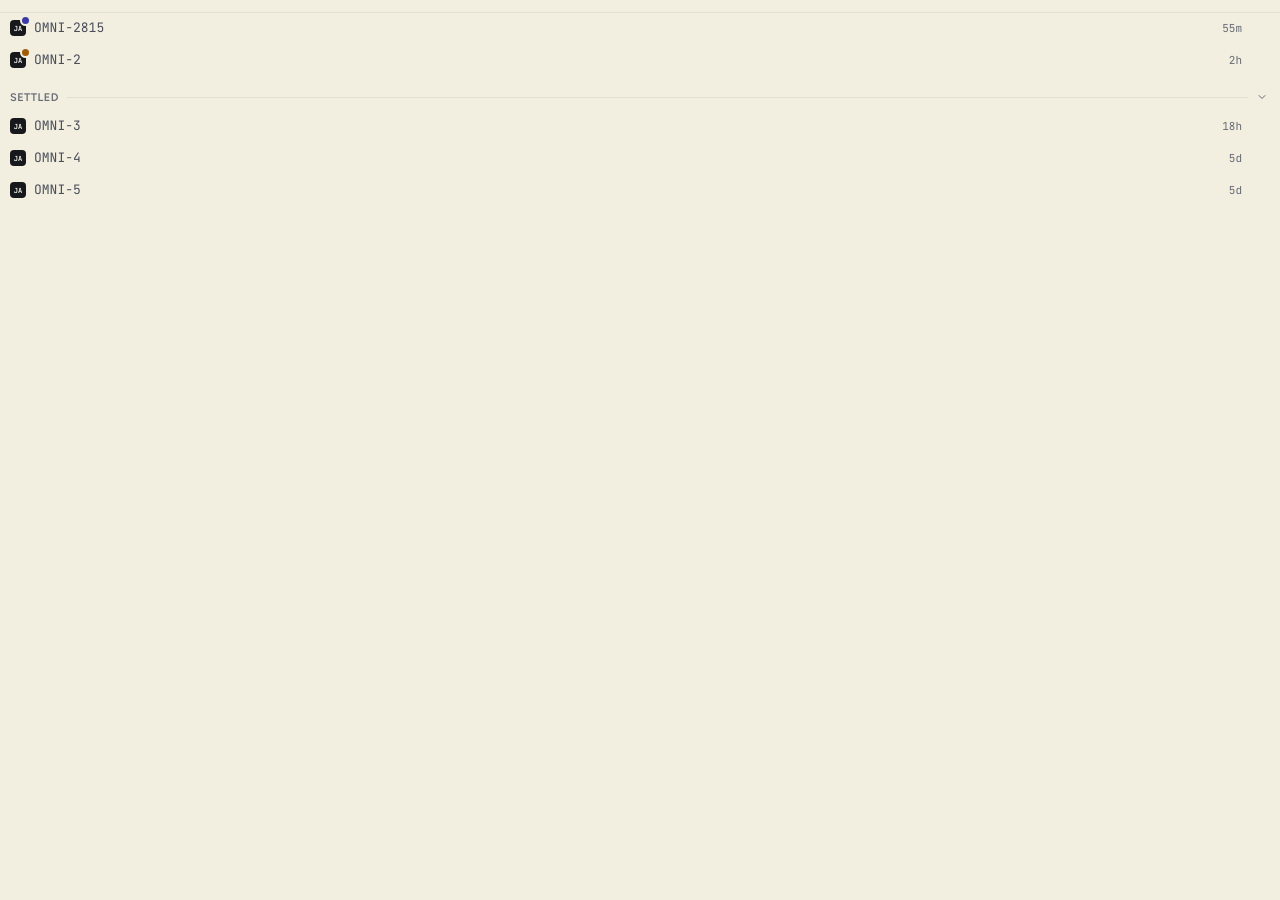
Test: the session menu › lets a time be picked, and refuses one already past
The width and height of the screenshot is (1280, 900).
Step 1. Right-click the button "JA OMNI-4 5d" → (57, 157), box x1=0 y1=143 x2=1254 y2=173
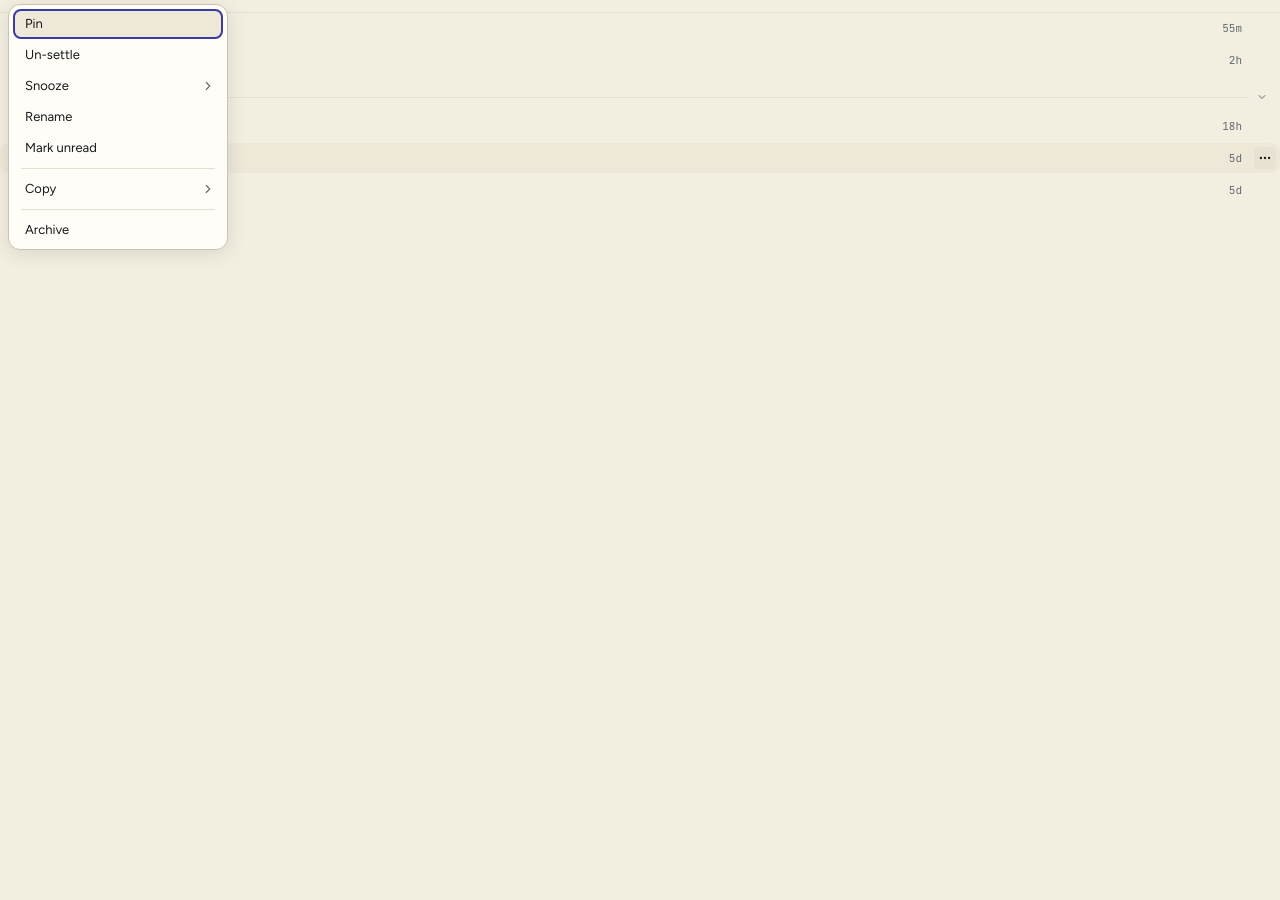
Step 2. Click the menu item "Snooze" → (118, 86), box x1=13 y1=71 x2=223 y2=101
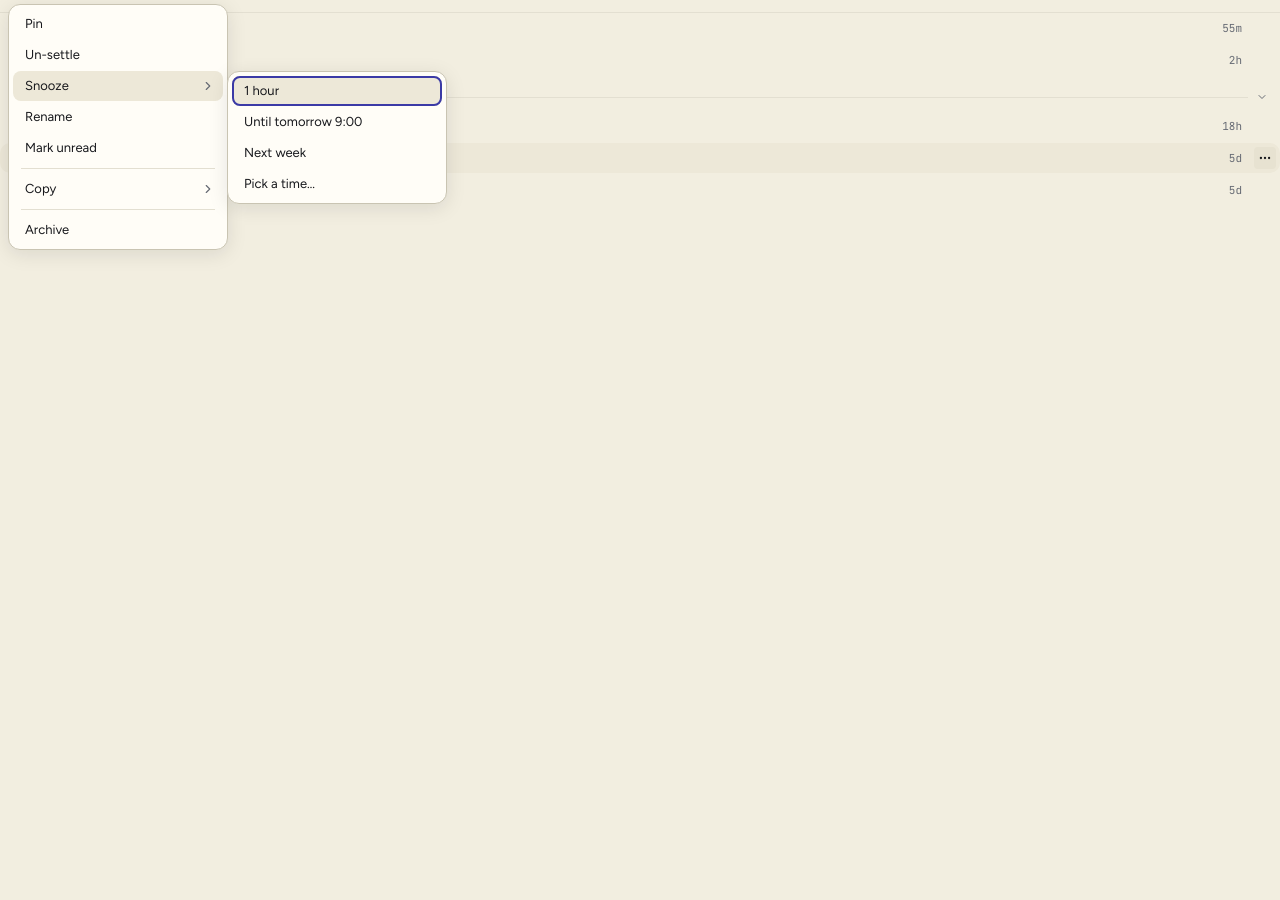
Step 3. Click the menu item "Pick a time…" → (337, 184), box x1=232 y1=169 x2=442 y2=199
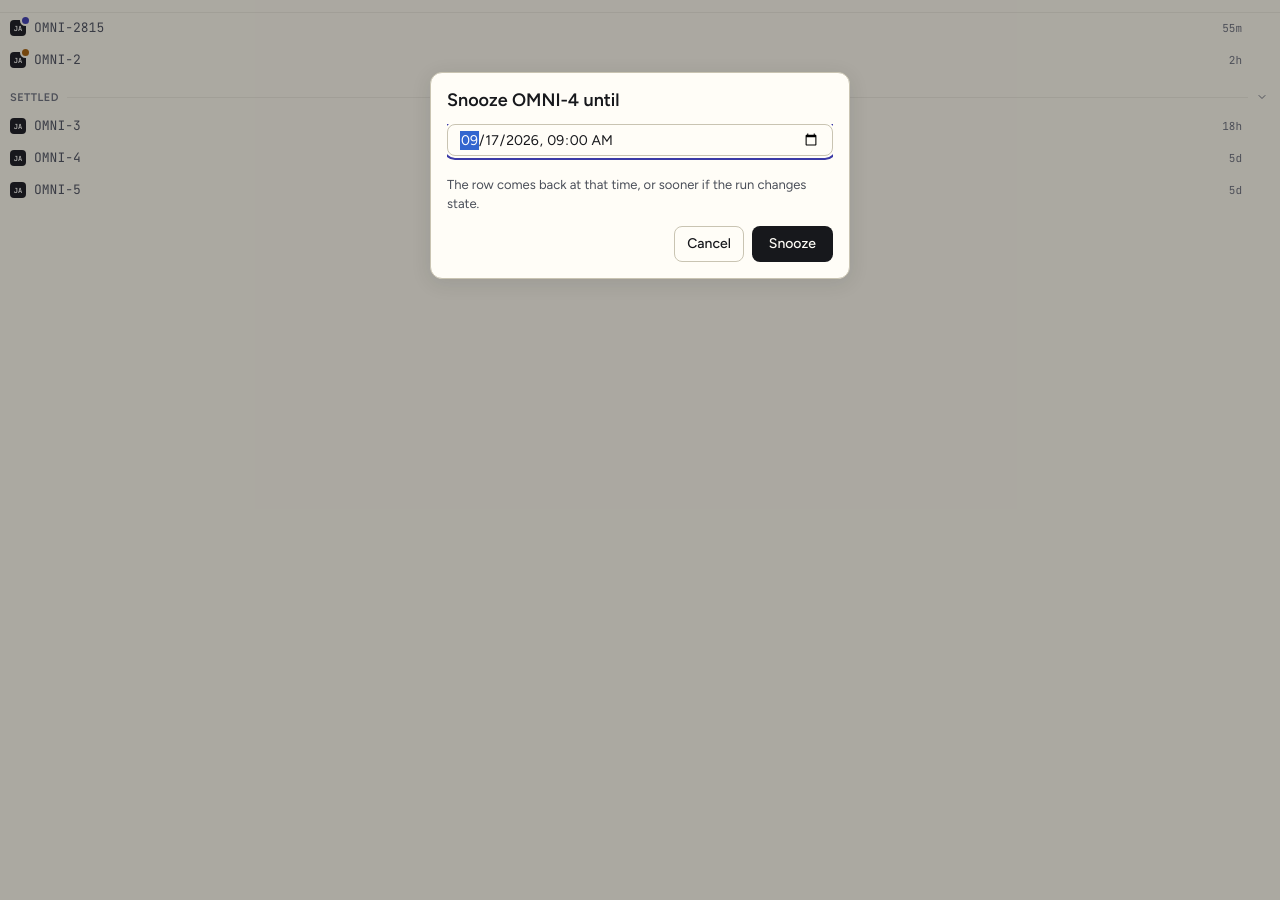
Result: the field named "Snooze until" holds "2026-09-17T09:00"
Step 4. Replace the text in the field named "Snooze until" with "2026-09-15T09:00" → (640, 140), box x1=447 y1=124 x2=833 y2=156
Step 5. Click the button "Snooze" → (792, 244), box x1=752 y1=226 x2=833 y2=262
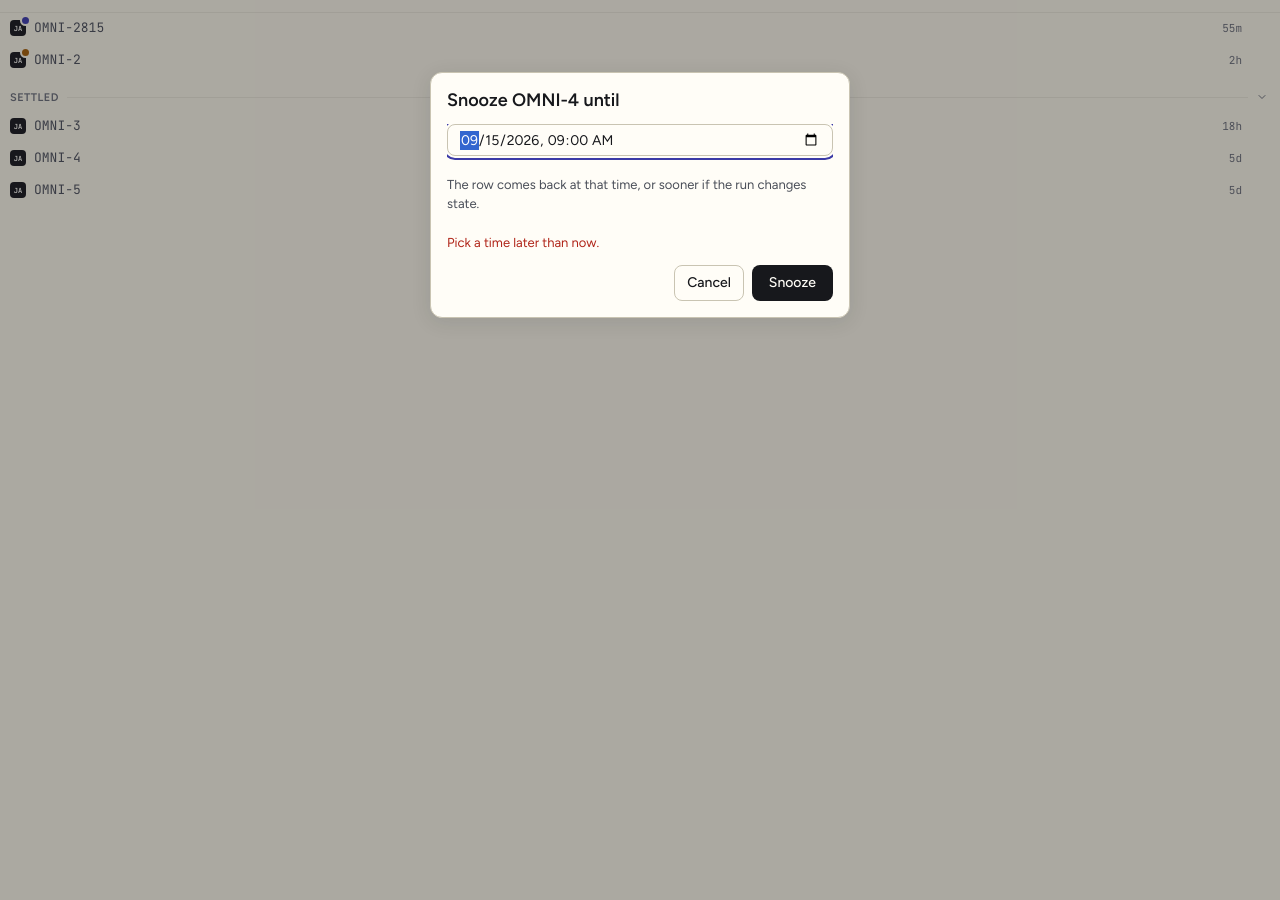
Result: the message reads "Pick a time later than now." at x1=447 y1=235 x2=599 y2=250
Step 6. Replace the text in the field named "Snooze until" with "2026-09-18T14:30" → (640, 140), box x1=447 y1=124 x2=833 y2=156
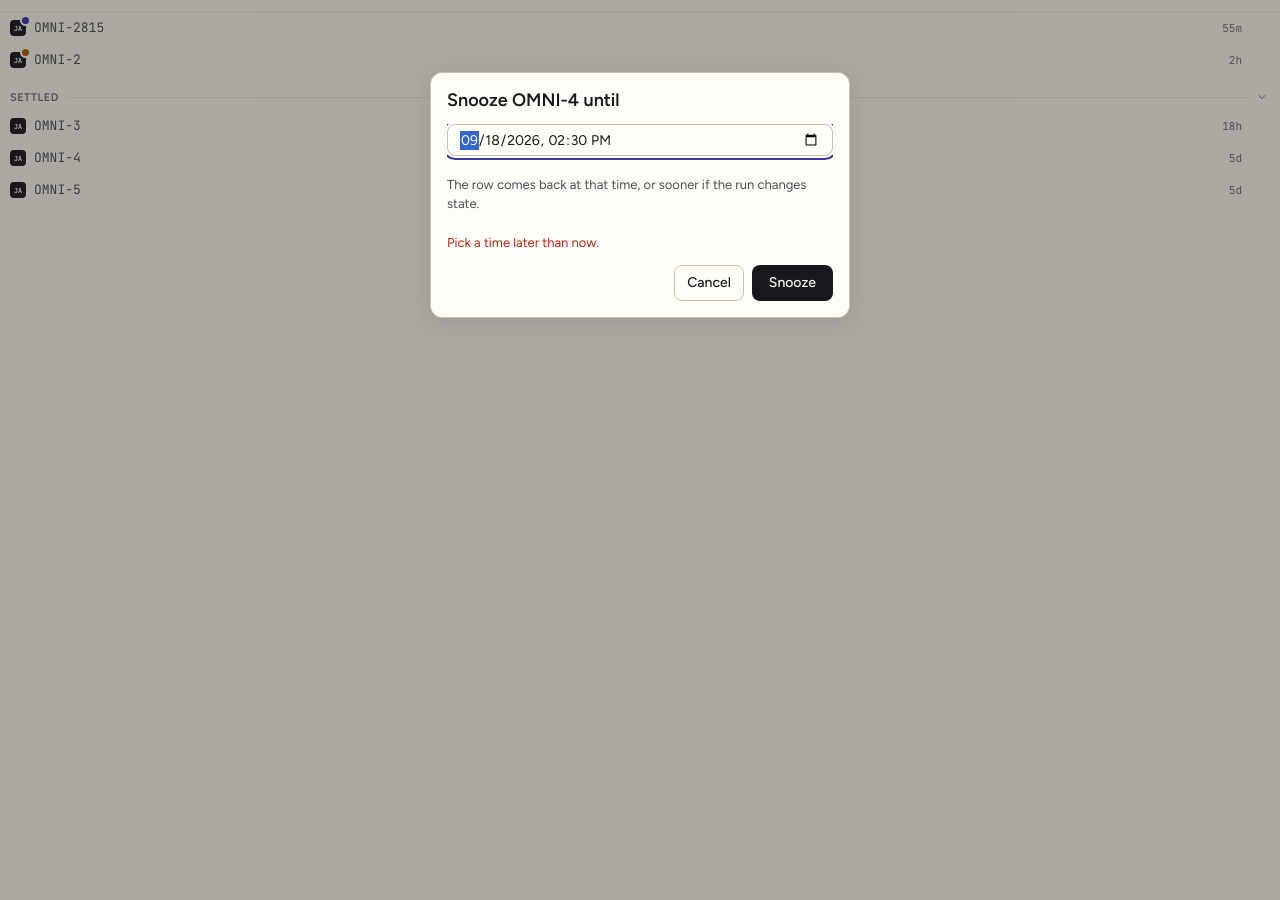
Step 7. Click the button "Snooze" → (792, 283), box x1=752 y1=265 x2=833 y2=301
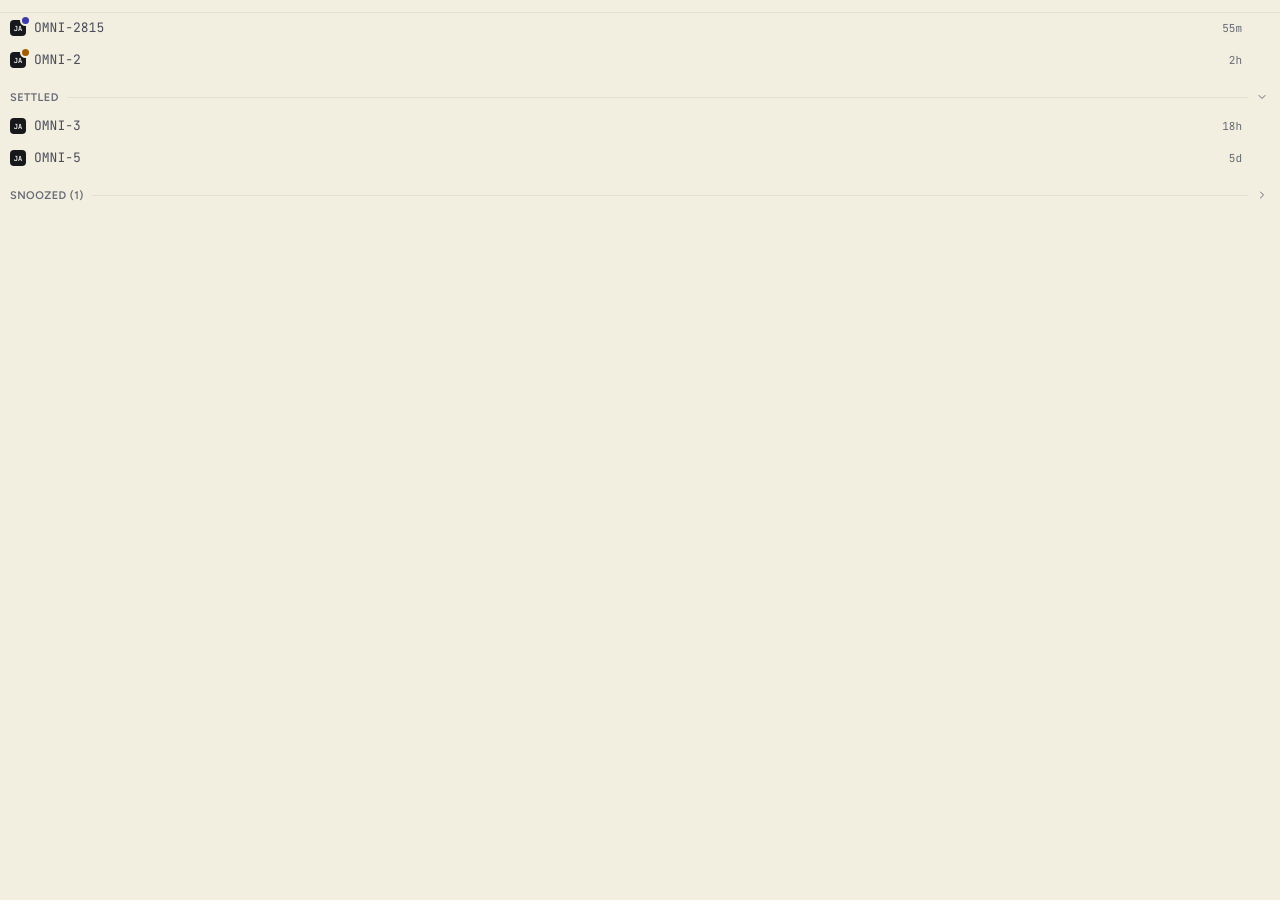
Result: the dialog is gone
Result: the button "Snoozed (1)" is shown at x1=0 y1=183 x2=1279 y2=207
